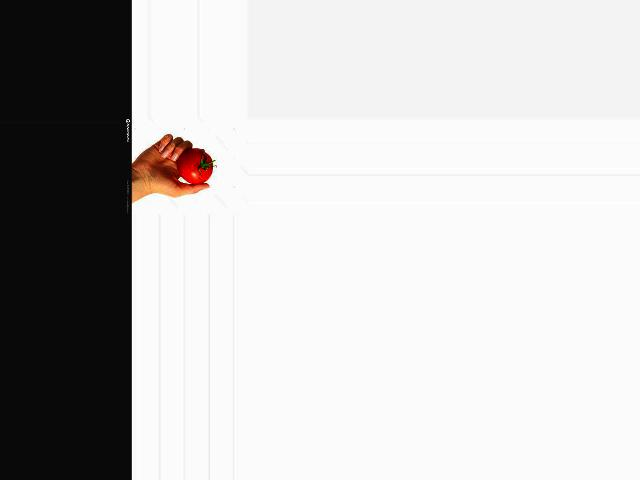tomato: (177, 149, 213, 184)
